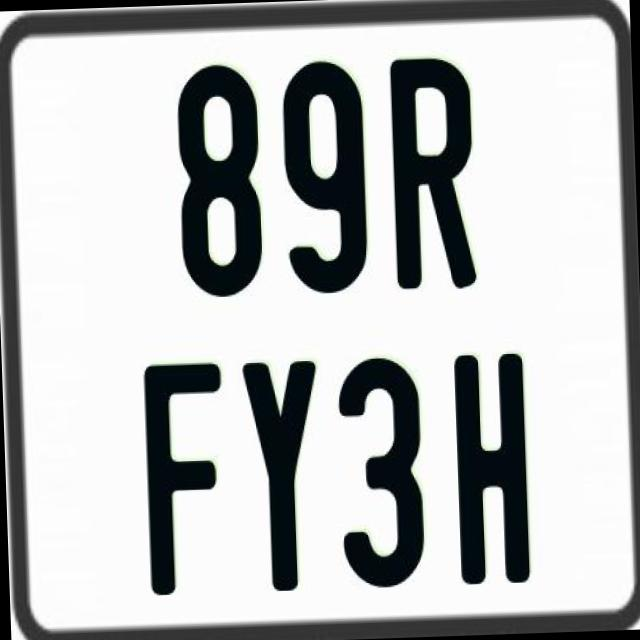3: (334, 356, 424, 596)
8: (174, 63, 266, 306)
9: (276, 59, 367, 300)
F: (140, 358, 230, 602)
H: (453, 350, 537, 582)
R: (387, 54, 479, 287)
Y: (243, 360, 327, 596)
